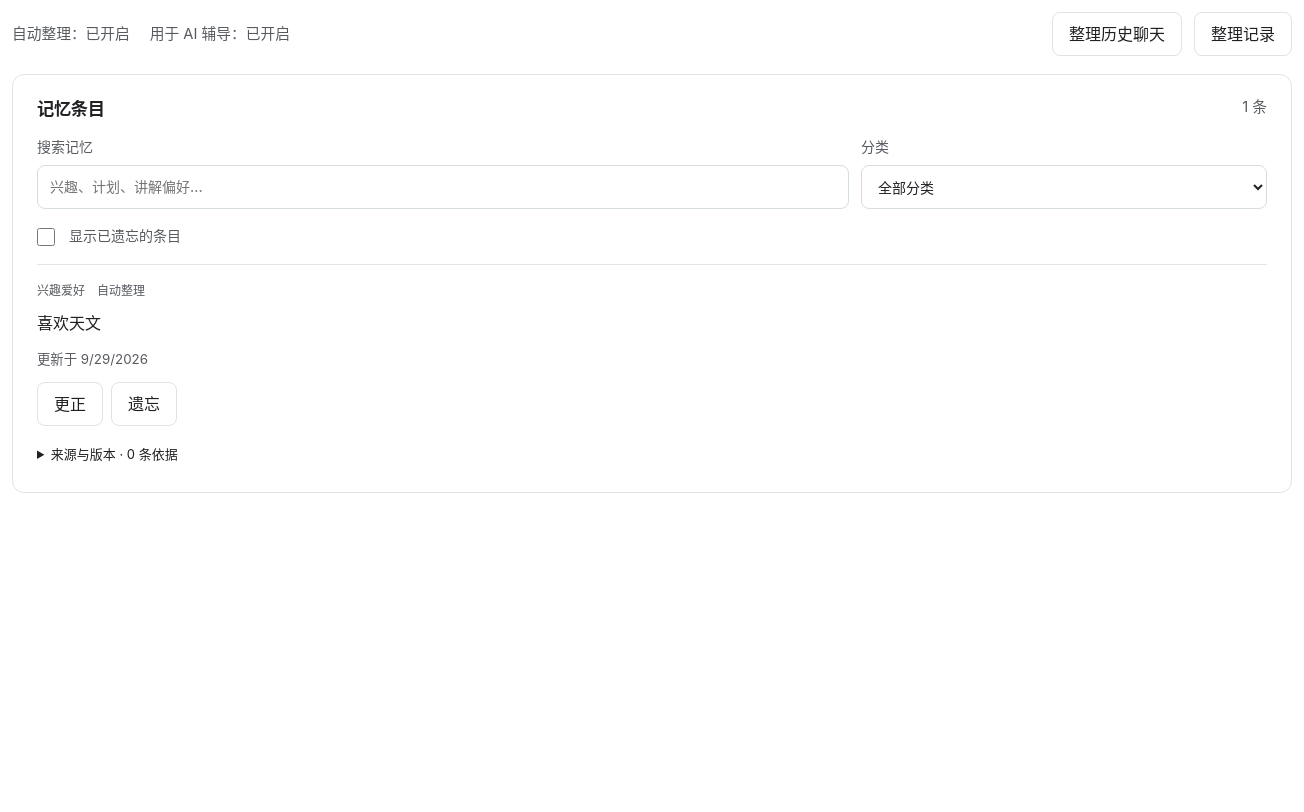
edits and forgets an automatic item while keeping a visible control
Click the button "更正" at coordinates (70, 404), box [37,382,103,426]
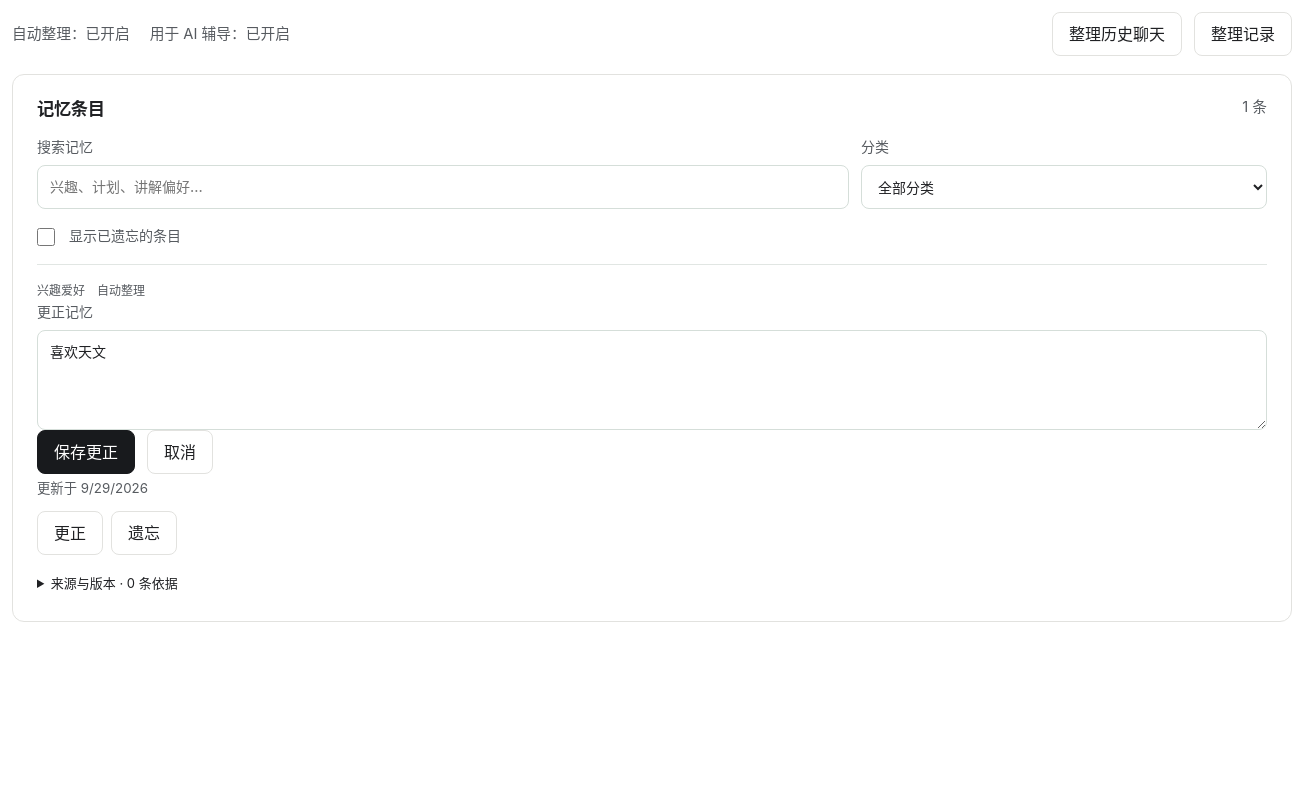
Replace the text in the text box labelled "更正记忆" with "现在更喜欢生物" at coordinates (652, 380), box [37,330,1267,430]
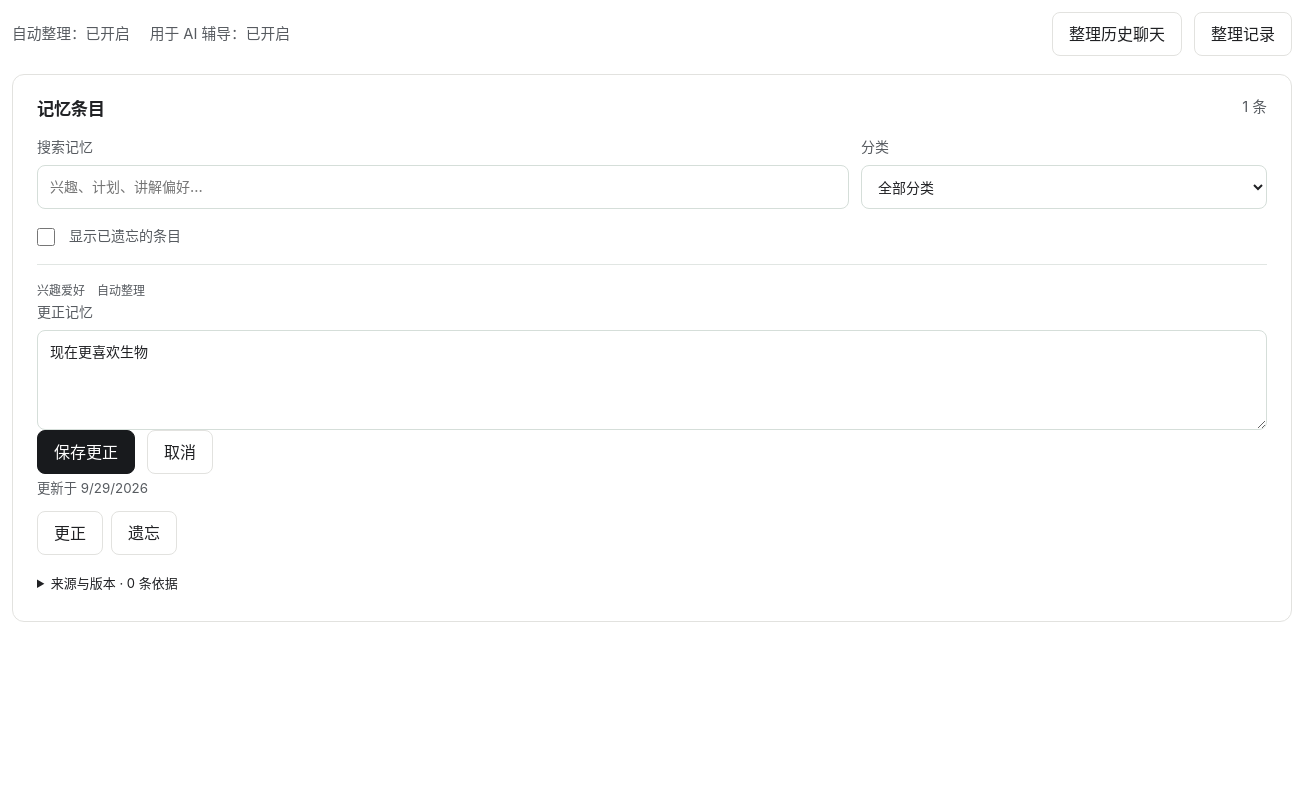
Click the button "保存更正" at coordinates (86, 452), box [37,430,135,474]
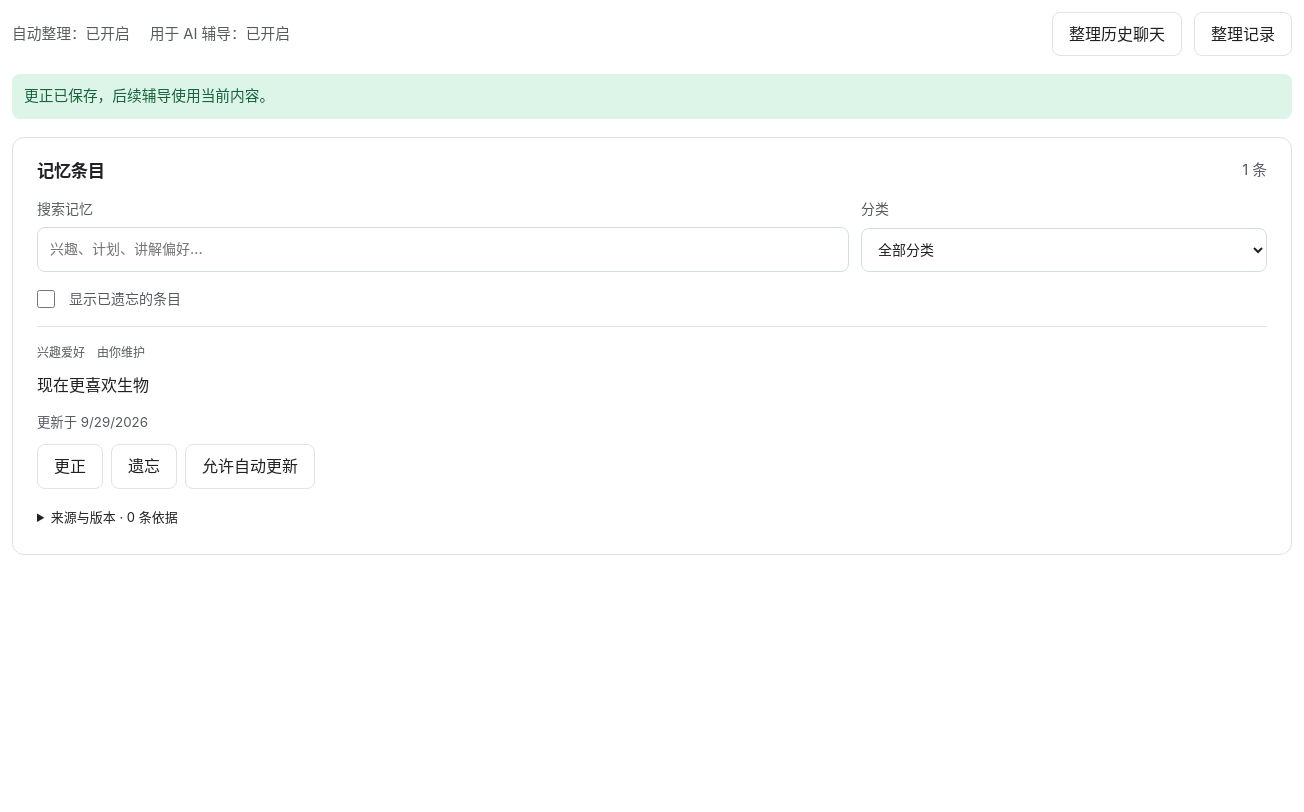
Result: the text "由你维护" is shown at [97,343,145,363]
Click the button "遗忘" at coordinates (144, 466), box [111,444,177,488]
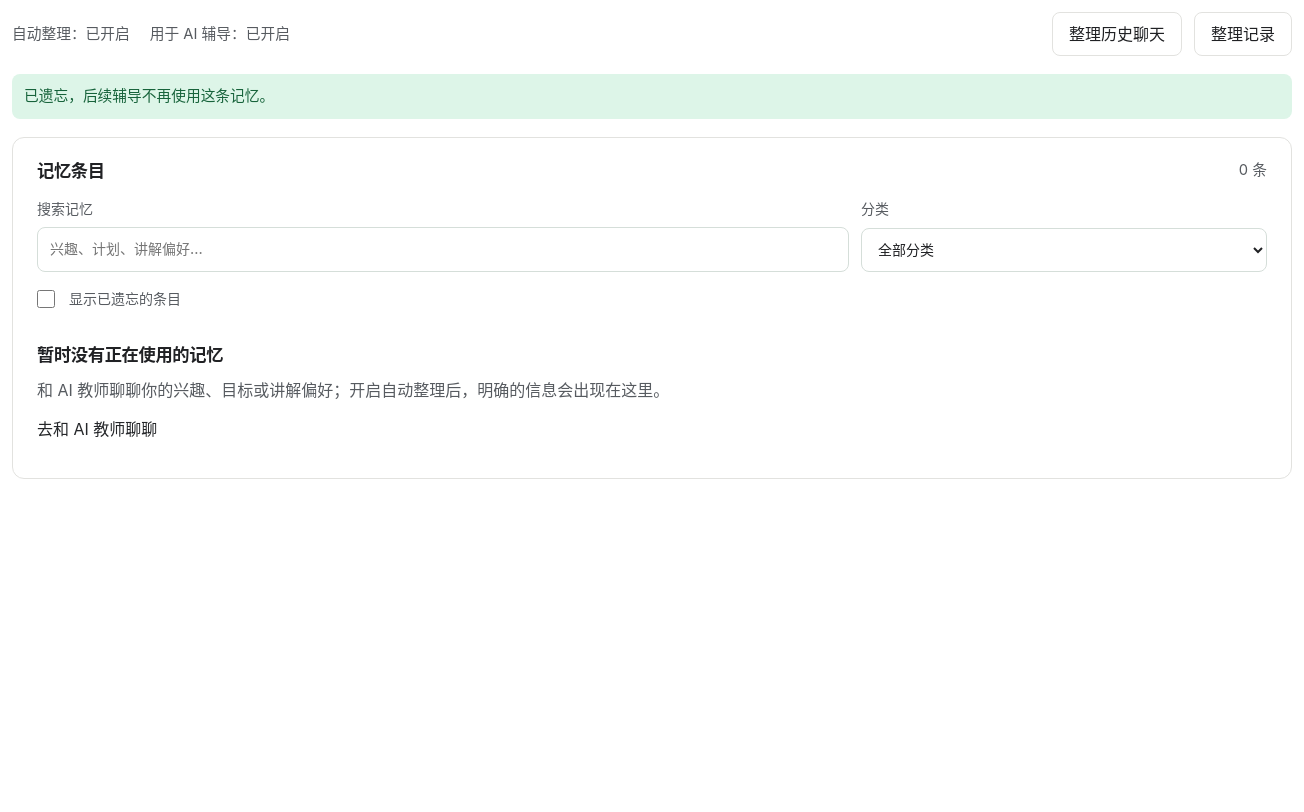
Result: the text "现在更喜欢生物" is gone
Click the checkbox labelled "显示已遗忘的条目" at coordinates (46, 299), box [37,290,55,308]
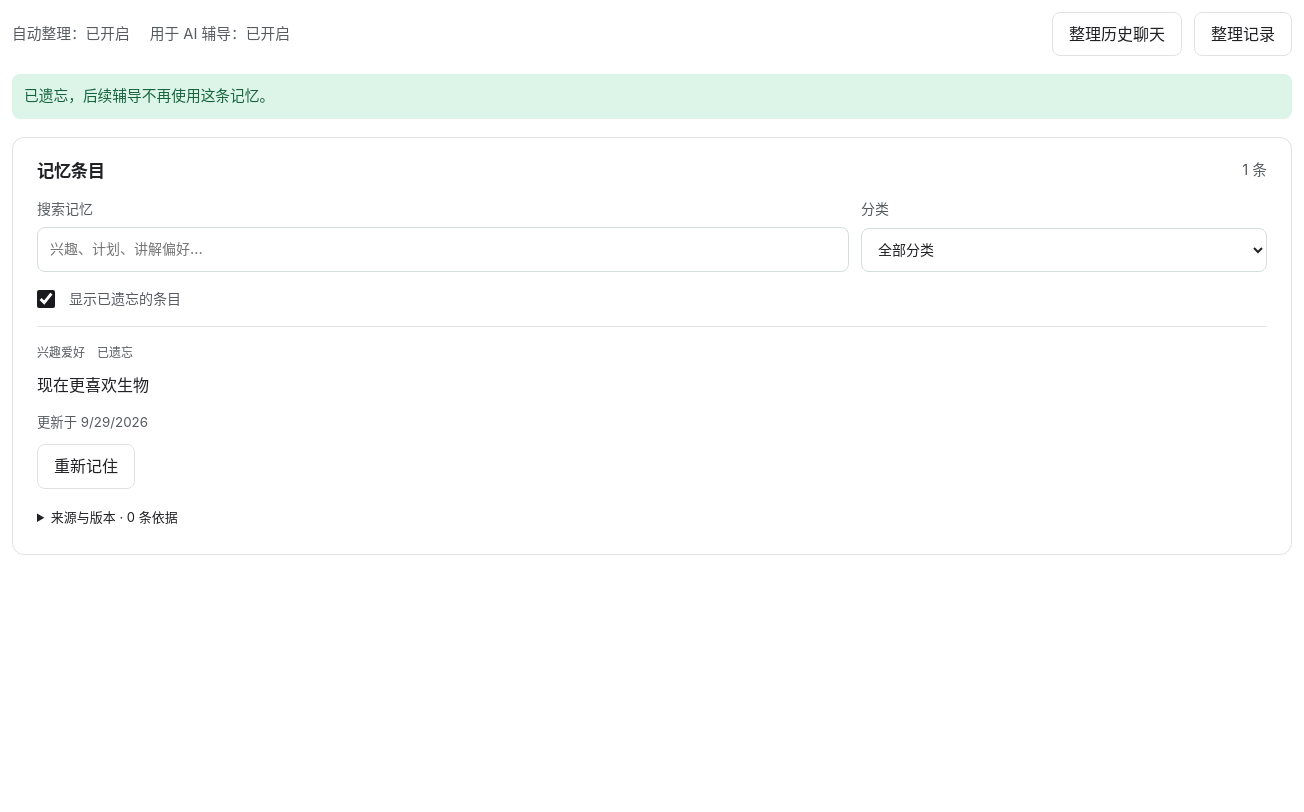
Result: the button "重新记住" is shown at [37,444,135,488]
